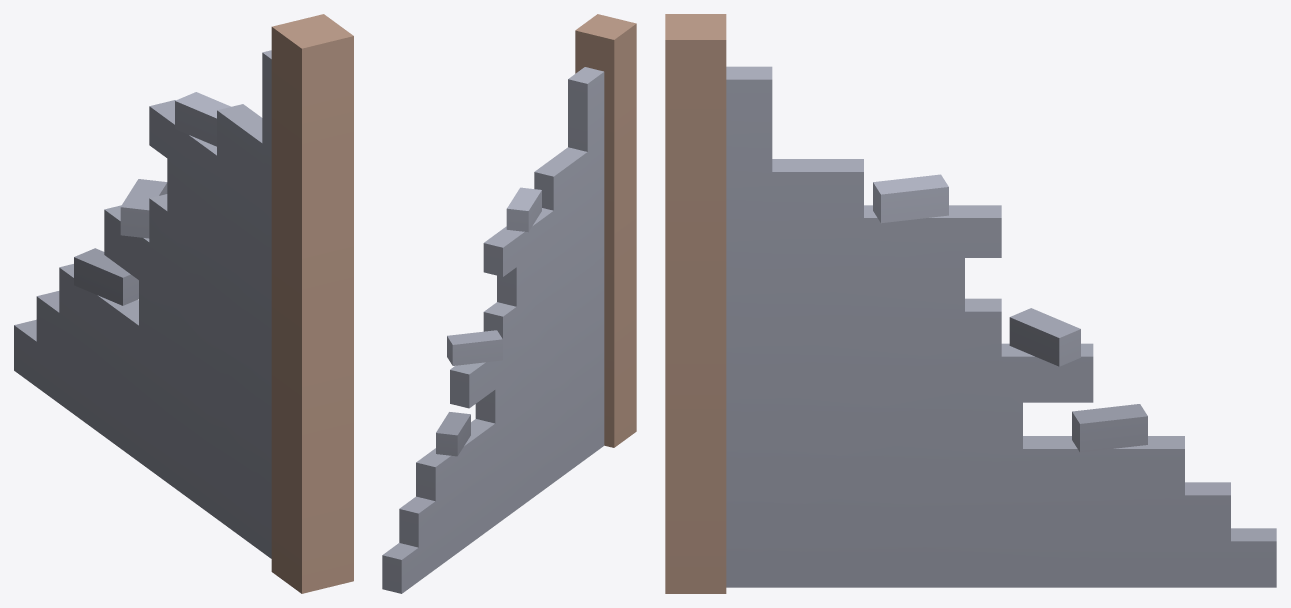
The model's file is wall-broken.glb.
The picture shows the model from 3 angles, left to right: view 1: azimuth 30°, elevation 25°; view 2: azimuth 150°, elevation 25°; view 3: azimuth 270°, elevation 25°; orthographic projection. The views are drawn at different scales.
Parts seen in each view (by area): view 1: wall-broken; view 2: wall-broken; view 3: wall-broken.
Boxes of the visible parts, x1,y1,x2,y2 form: wall-broken: (14, 14, 353, 593); wall-broken: (382, 14, 636, 593); wall-broken: (665, 14, 1276, 593).
Bounding box in the file's own units: 0.1168 × 1 × 1.
